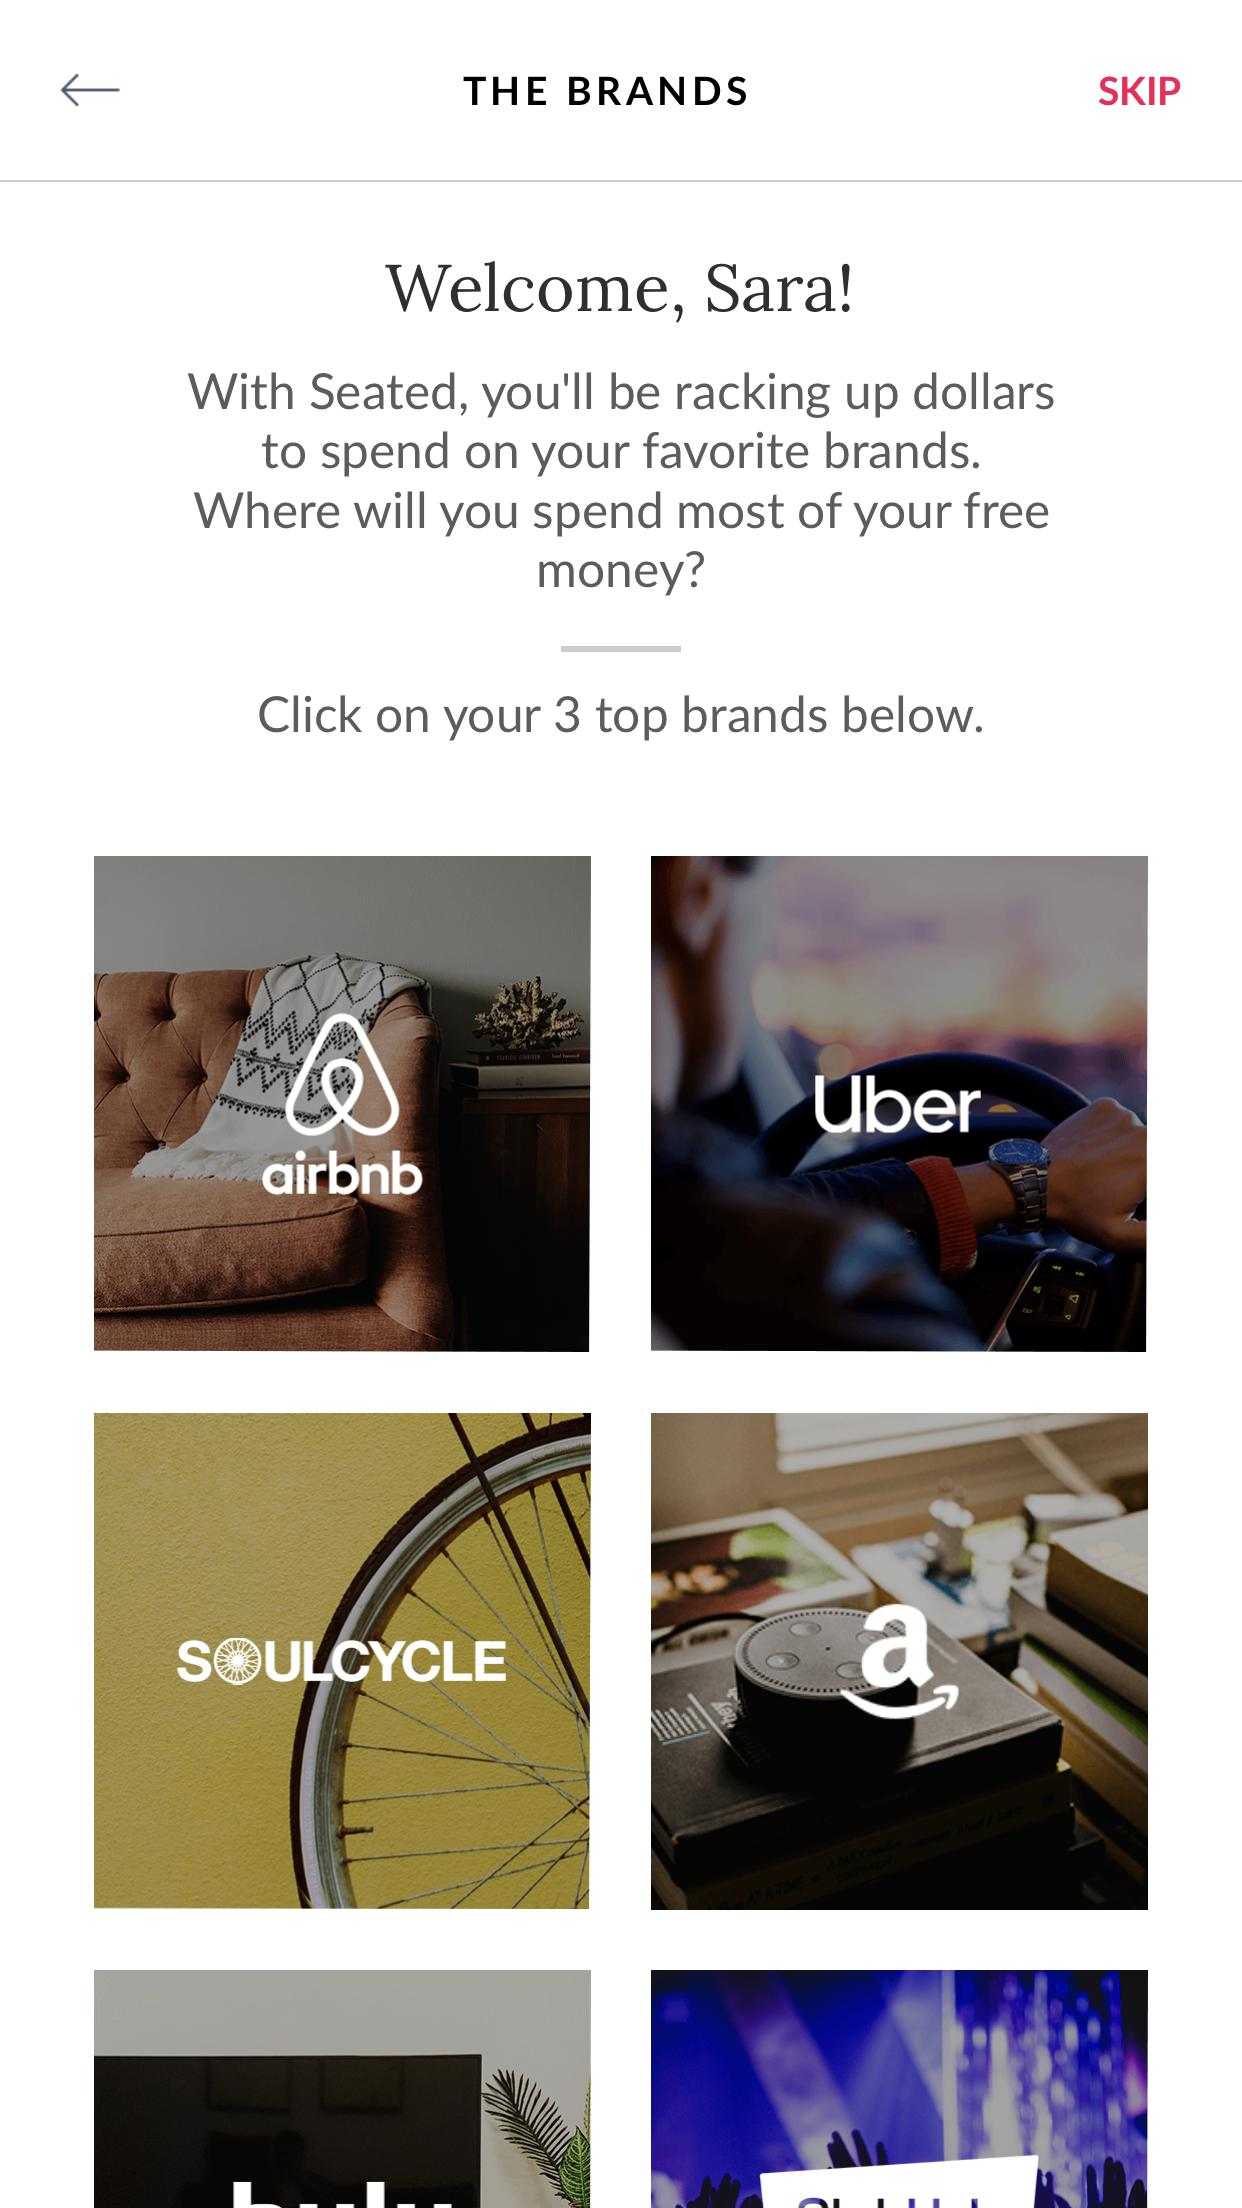Icon: (61, 74, 121, 109)
Image: (94, 855, 591, 1353), (651, 855, 1148, 1353), (651, 1413, 1148, 1909), (96, 1413, 591, 1908), (651, 1970, 1148, 2208), (94, 1970, 590, 2208), (177, 1636, 507, 1686), (284, 1011, 400, 1137), (839, 1601, 961, 1720)
Text: (182, 370, 1055, 597), (259, 692, 974, 743), (385, 259, 851, 325), (813, 1074, 983, 1134), (463, 76, 748, 108), (261, 1148, 423, 1198), (1099, 74, 1181, 108)
